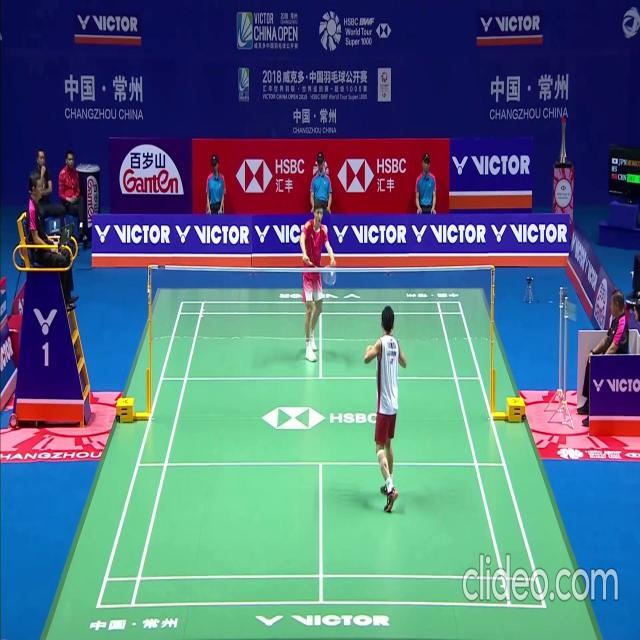Shuttlecock: (330, 269, 334, 277)
